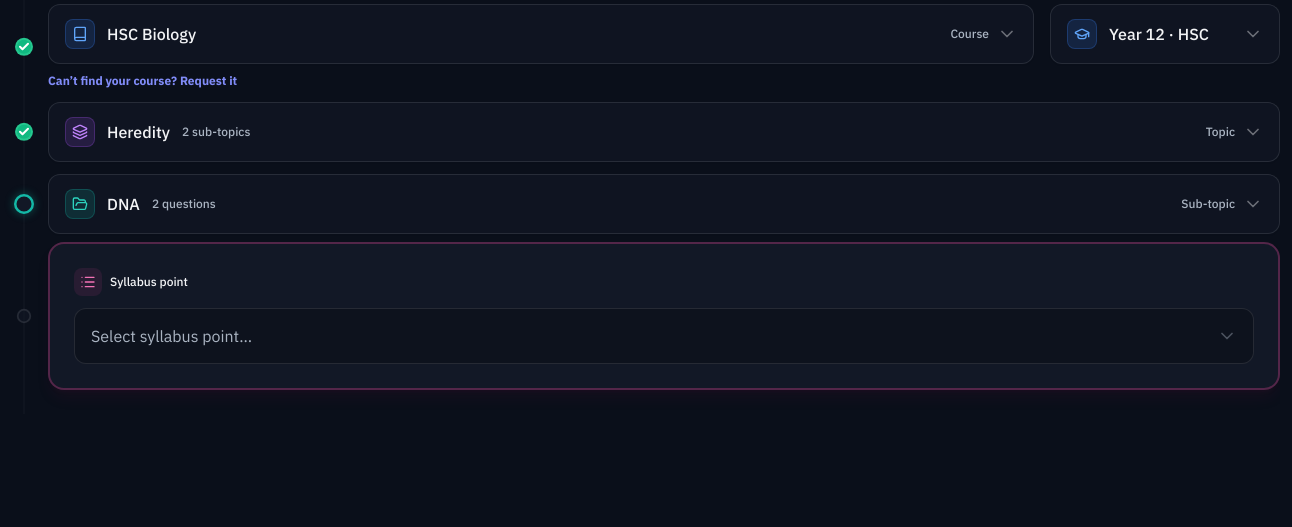
it: PromptSelector › counts questions on each syllabus point
Step 1. Click the button "Select syllabus point…" → click(172, 336), box [74,308,1254,364]
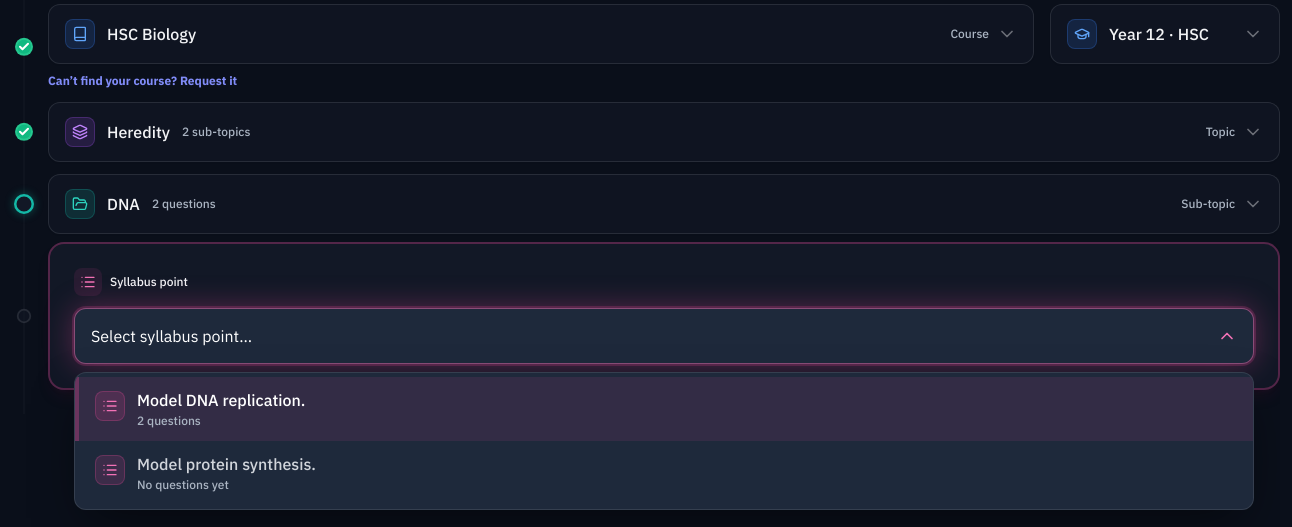
Now the text "2 questions" below "Model DNA replication." is shown, box [137,413,201,428]
Now the text "No questions yet" is shown, box [137,477,229,492]
